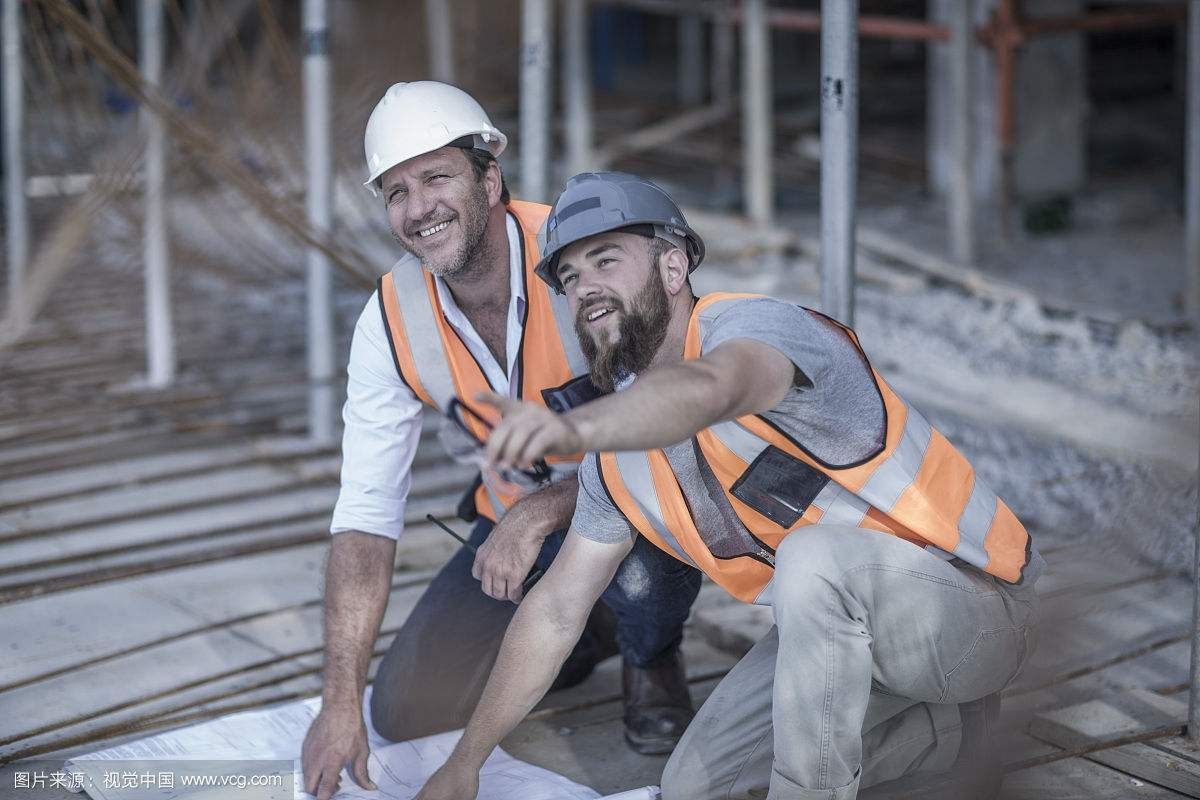blue: (536, 164, 704, 367)
white: (361, 75, 511, 273)
